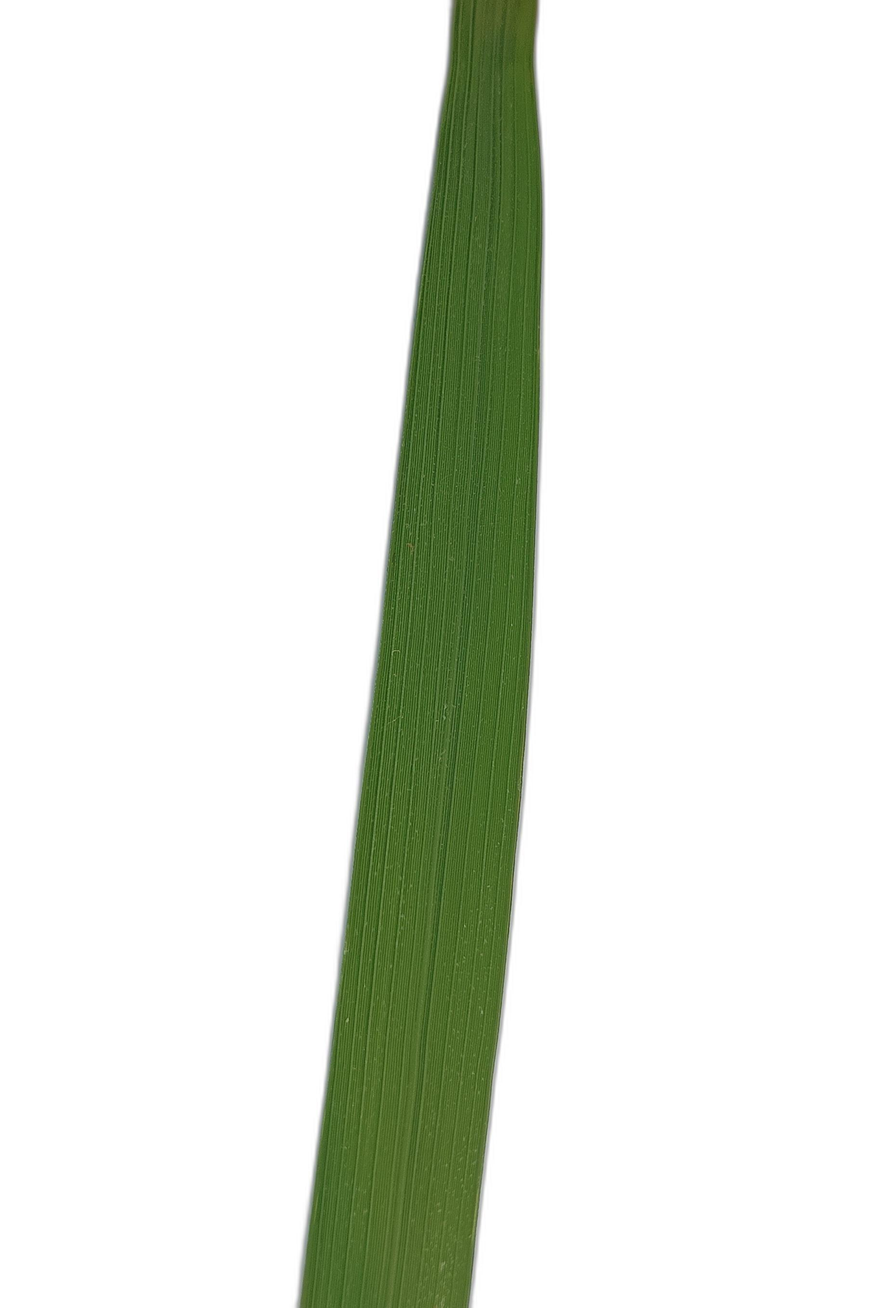Healthy: (299, 0, 541, 1307)
